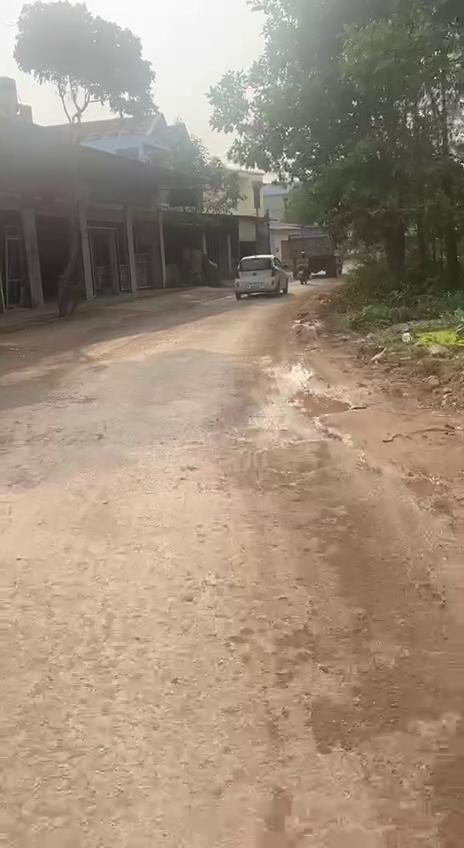pothole: (278, 386, 358, 420)
